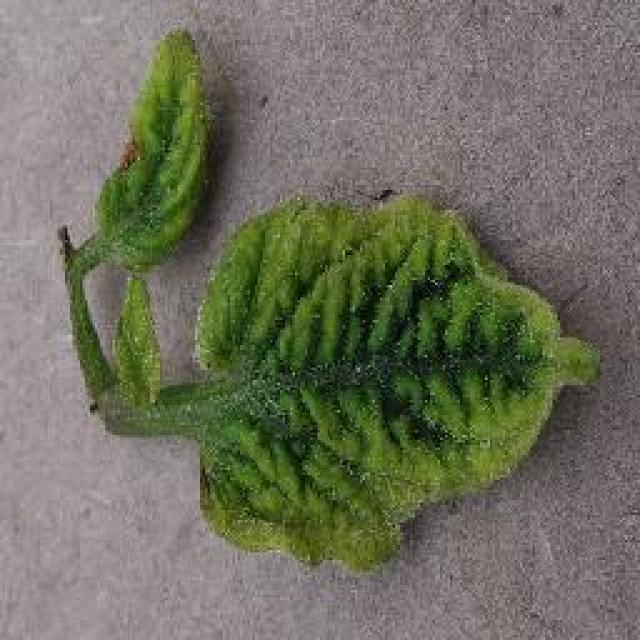Tomato yellow virus leaf: (198, 200, 592, 568), (101, 28, 209, 258)
